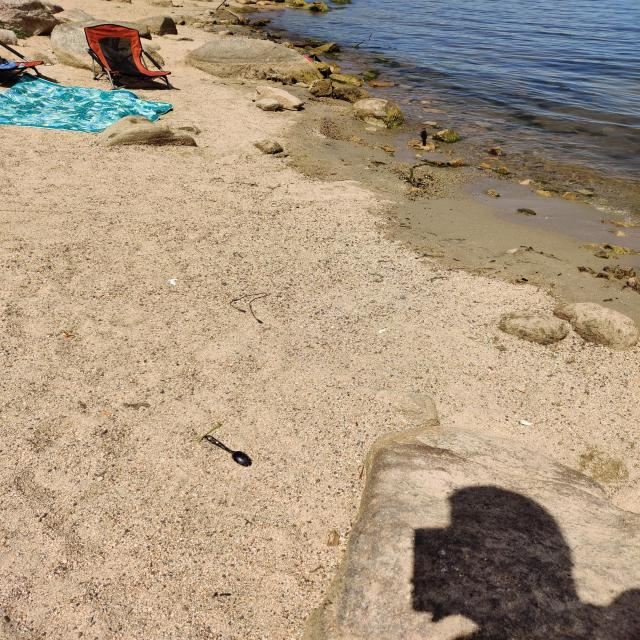litter: (209, 435, 253, 467)
